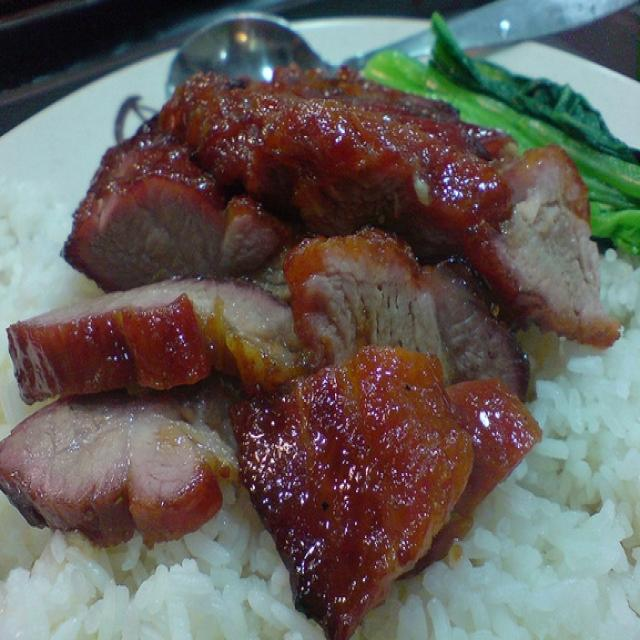猪肉菜式: (13, 24, 628, 625)
